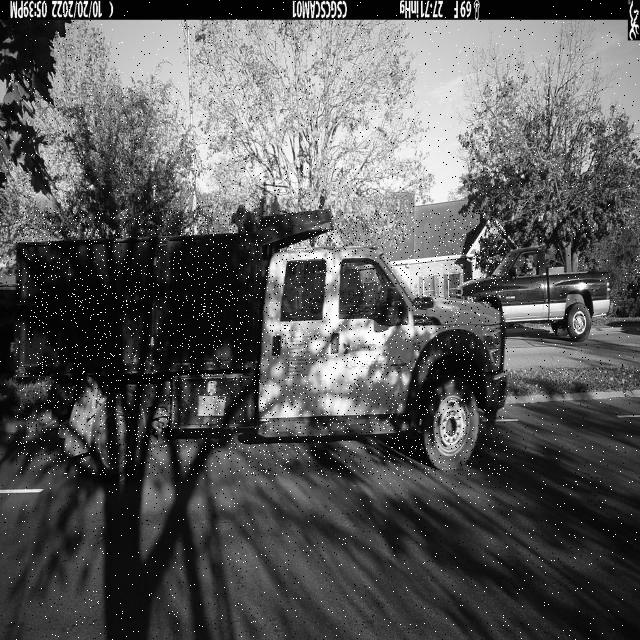Pickup- Utility: (16, 210, 508, 476)
